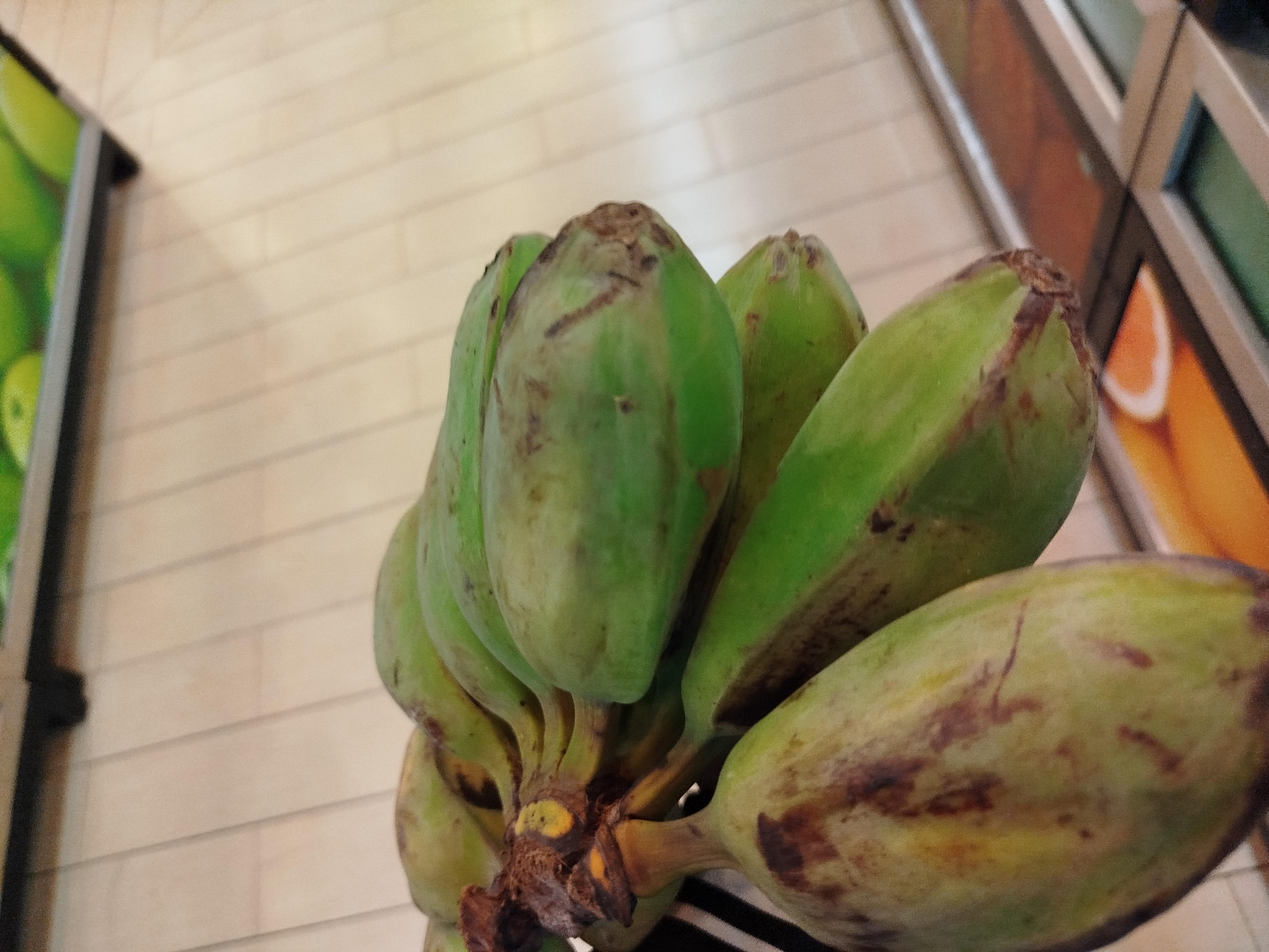underripe: (374, 203, 1269, 952)
